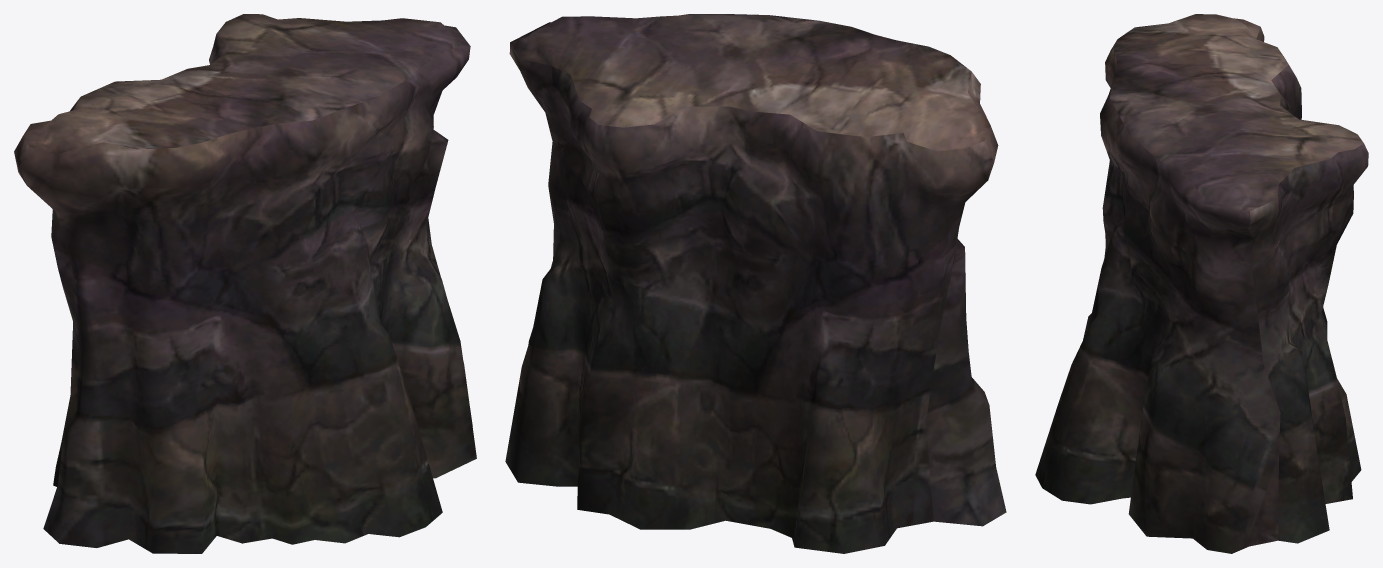
The model's file is S_Rock_Black062.FBX.
The picture shows the model from 3 angles, left to right: view 1: azimuth 30°, elevation 25°; view 2: azimuth 150°, elevation 25°; view 3: azimuth 270°, elevation 25°; orthographic projection. The views are drawn at different scales.
Parts seen in each view (by area): view 1: S_Rock_Black062; view 2: S_Rock_Black062; view 3: S_Rock_Black062.
Boxes of the visible parts, x1,y1,x2,y2 form: S_Rock_Black062: (14, 14, 476, 553); S_Rock_Black062: (505, 14, 1006, 553); S_Rock_Black062: (1035, 14, 1368, 553).
Bounding box in the file's own units: 942 × 667 × 799.
